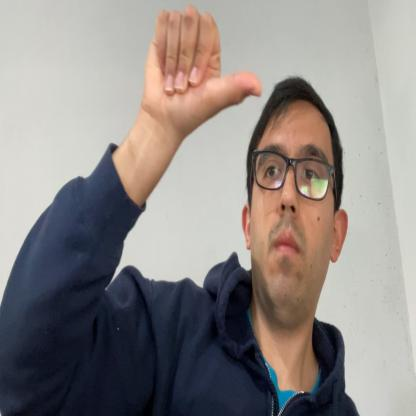A: (143, 4, 262, 130)
